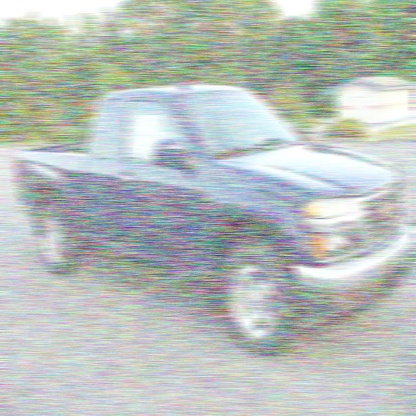Vehicle: (14, 81, 415, 362)
